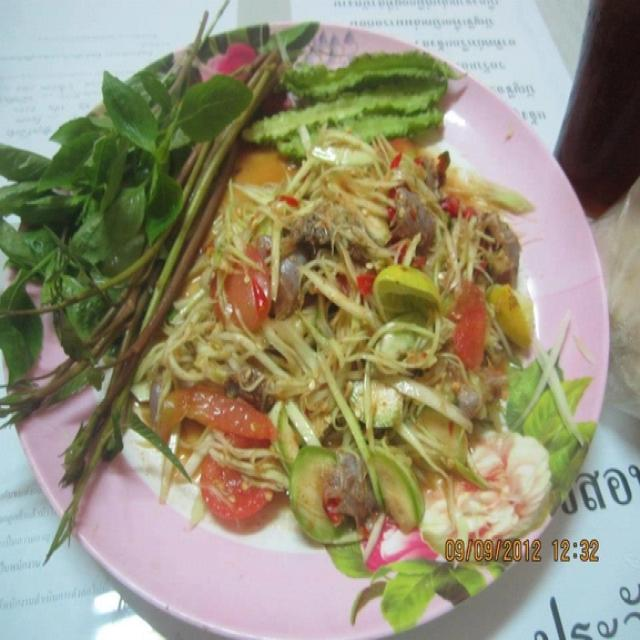蔬菜料理: (24, 37, 604, 607)
